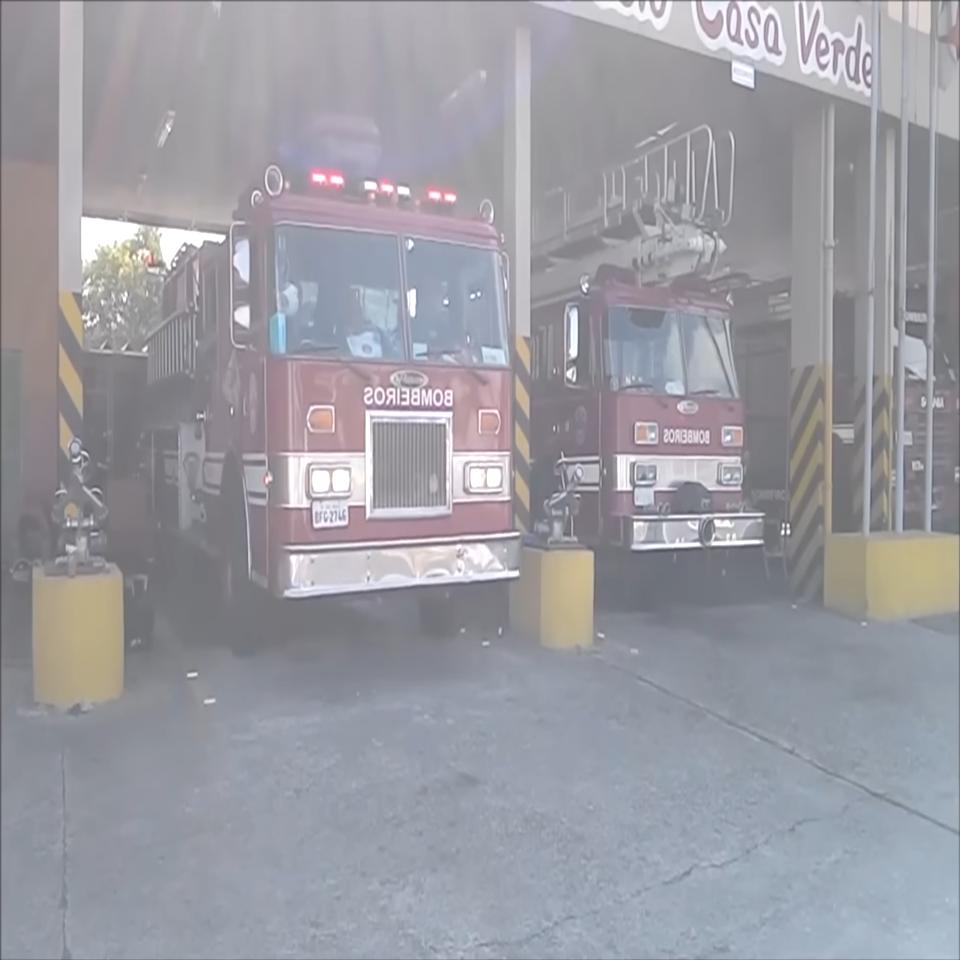bombeiro: (141, 113, 522, 657), (535, 124, 768, 600)
